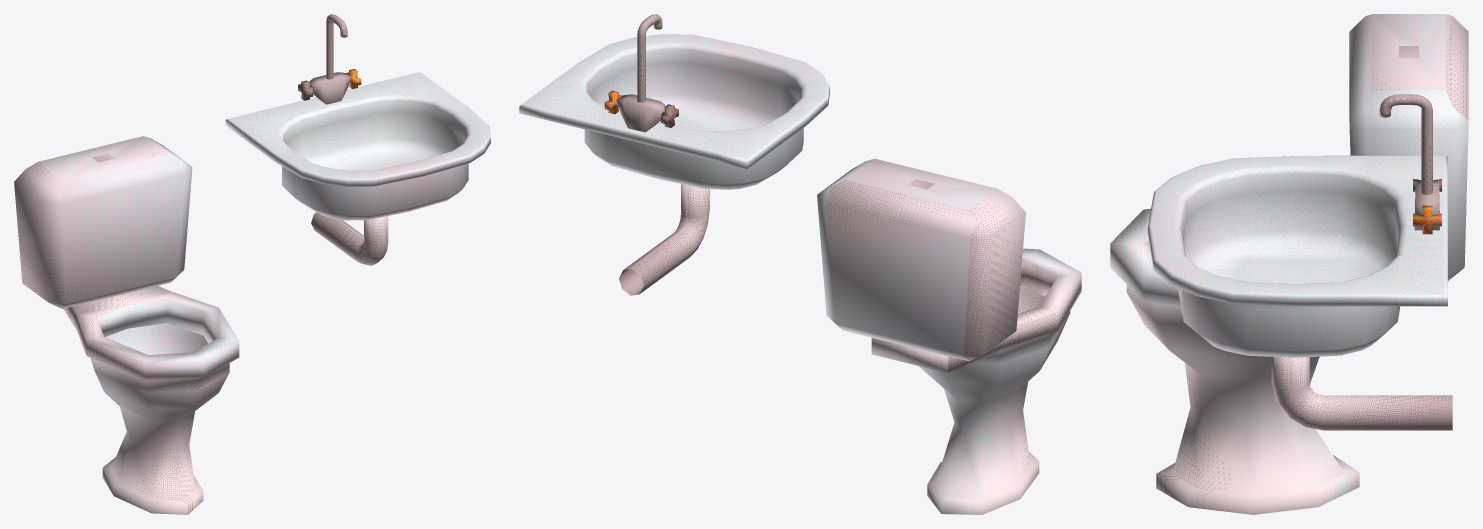
Rendered from toilet&sink.fbx.
3 renders of one model, left to right at view 1: azimuth 30°, elevation 25°; view 2: azimuth 150°, elevation 25°; view 3: azimuth 270°, elevation 25°, orthographic. The views are drawn at different scales.
Visible parts, largest first — view 1: toilet, sink; view 2: toilet, sink; view 3: sink, toilet.
Boxes of the visible parts, x1,y1,x2,y2 form: toilet: [14, 136, 239, 514]; sink: [225, 14, 490, 265]; toilet: [817, 158, 1081, 514]; sink: [519, 14, 829, 295]; sink: [1147, 94, 1452, 430]; toilet: [1110, 14, 1468, 514].
Size of the model in its own units: 215 by 193 by 111.
